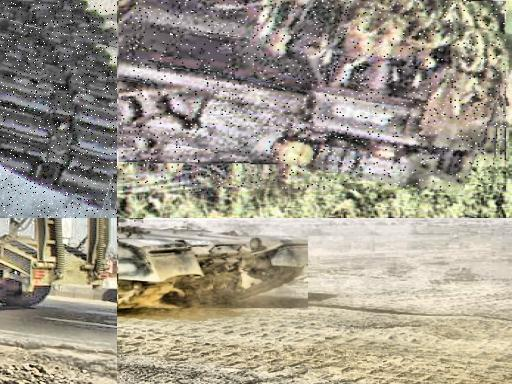tanks: (121, 1, 506, 192), (1, 19, 118, 219), (119, 227, 309, 309), (118, 128, 127, 147), (121, 219, 143, 224)
